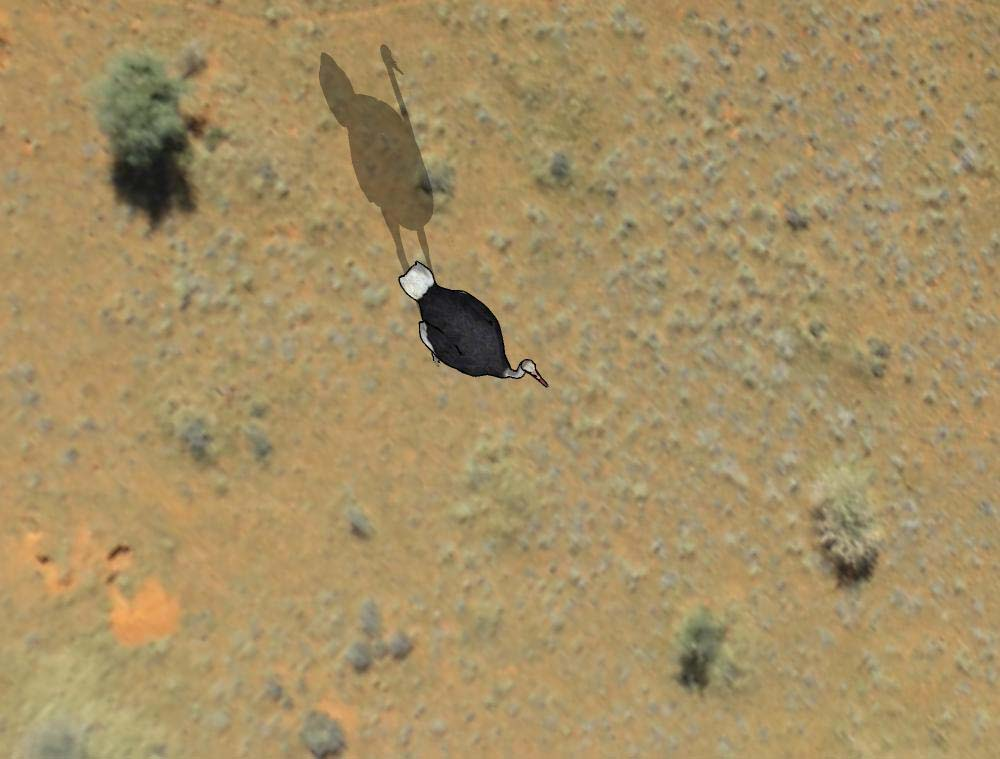ostrich: (391, 250, 555, 396)
